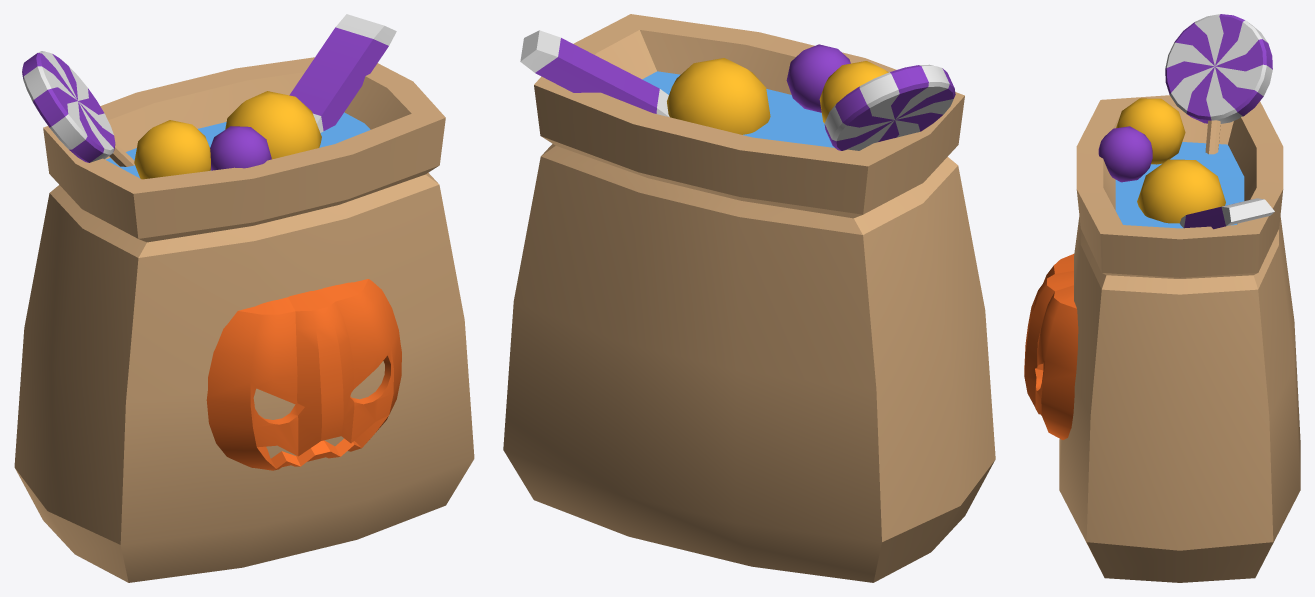
Rendered from candyBag.fbx.
3 views of the same model, side by side, from view 1: azimuth 30°, elevation 25°; view 2: azimuth 150°, elevation 25°; view 3: azimuth 270°, elevation 25° (orthographic). The views are drawn at different scales.
Parts seen in each view (by area): view 1: candyBag; view 2: candyBag; view 3: candyBag.
Part boxes in pixels (x1,y1,x2,y2): candyBag: [14, 14, 474, 582]; candyBag: [503, 14, 995, 582]; candyBag: [1024, 14, 1300, 582].
Size of the model in its own units: 1.15 by 1.37 by 0.7911.
